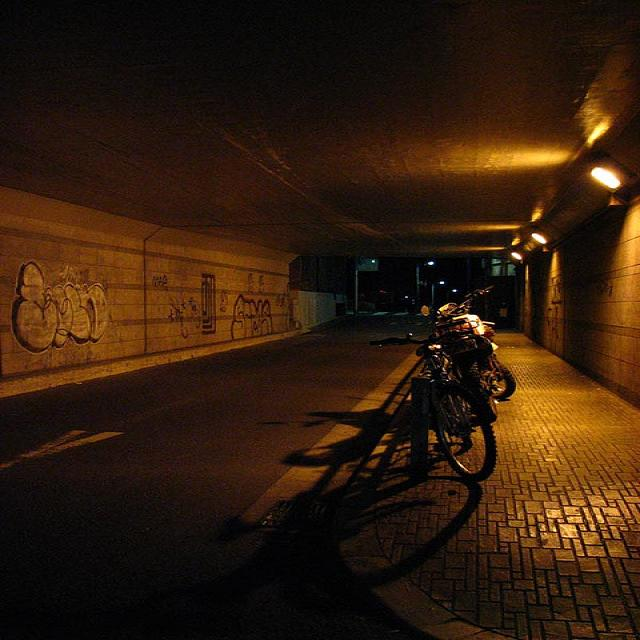Bicycle: (357, 319, 547, 467), (397, 268, 527, 368)
